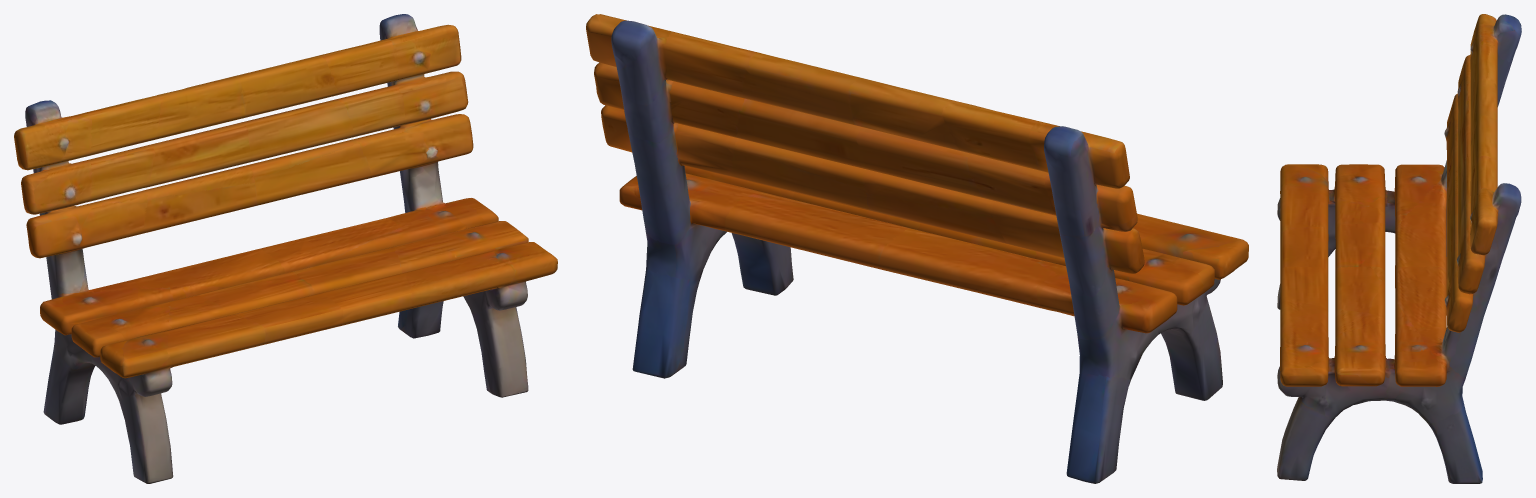
File: park_bench.glb
The picture shows the model from 3 angles, left to right: view 1: azimuth 30°, elevation 25°; view 2: azimuth 150°, elevation 25°; view 3: azimuth 270°, elevation 25°; orthographic projection. The views are drawn at different scales.
Visible parts, largest first — view 1: tripo_node_2fc1e5be-85af-4344-90b1-ae40e550f04c; view 2: tripo_node_2fc1e5be-85af-4344-90b1-ae40e550f04c; view 3: tripo_node_2fc1e5be-85af-4344-90b1-ae40e550f04c.
Boxes of the visible parts, x1,y1,x2,y2 form: tripo_node_2fc1e5be-85af-4344-90b1-ae40e550f04c: [14, 14, 557, 483]; tripo_node_2fc1e5be-85af-4344-90b1-ae40e550f04c: [586, 14, 1248, 483]; tripo_node_2fc1e5be-85af-4344-90b1-ae40e550f04c: [1277, 14, 1521, 483].
Size of the model in its own units: 0.9491 by 0.6153 by 0.4685.
1 material, 1 textured.
